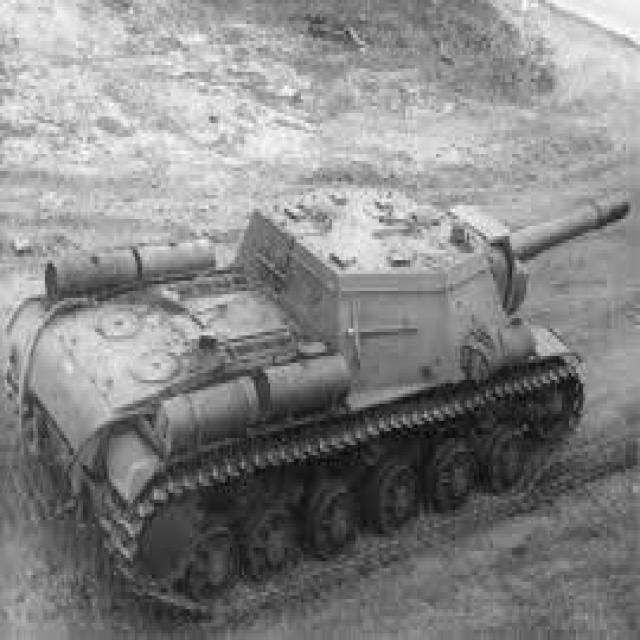Tanks: (10, 197, 602, 600)
